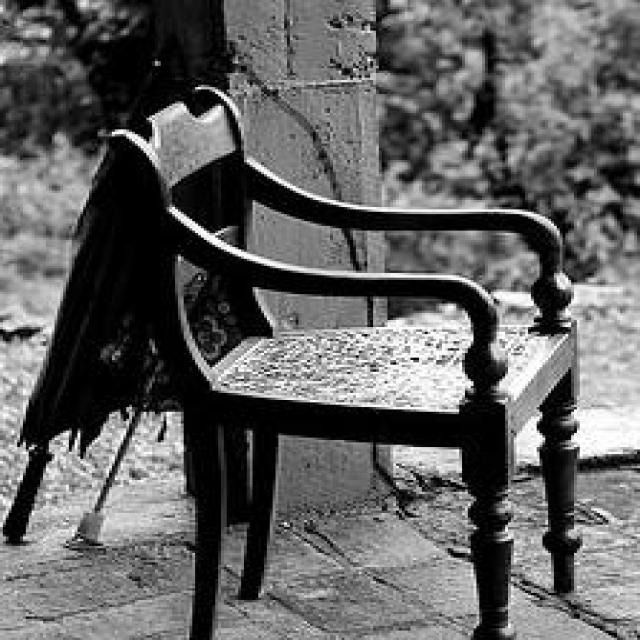chair: (138, 82, 582, 638)
